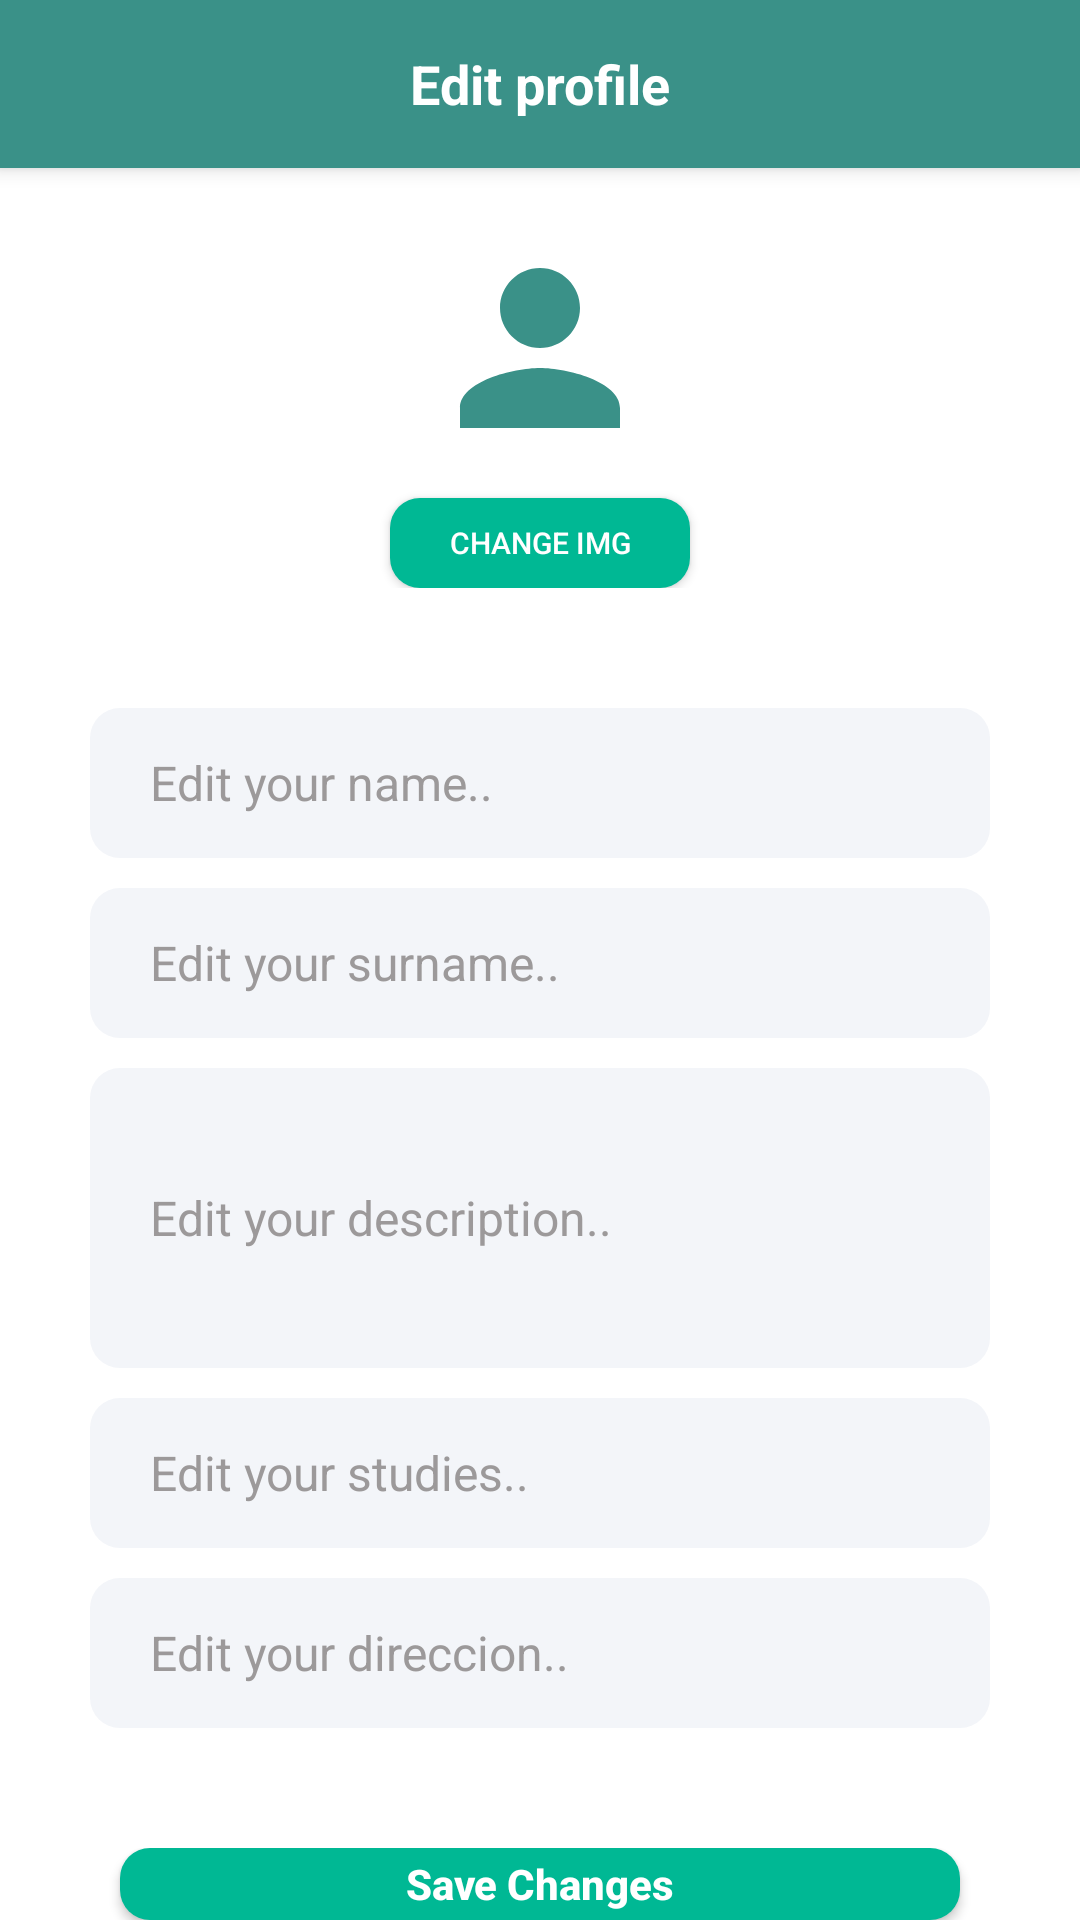

Icons on this 1080px x 1920px Android screen, each with the point to tap as (x=x, y=y):
person: (x=540, y=348)
